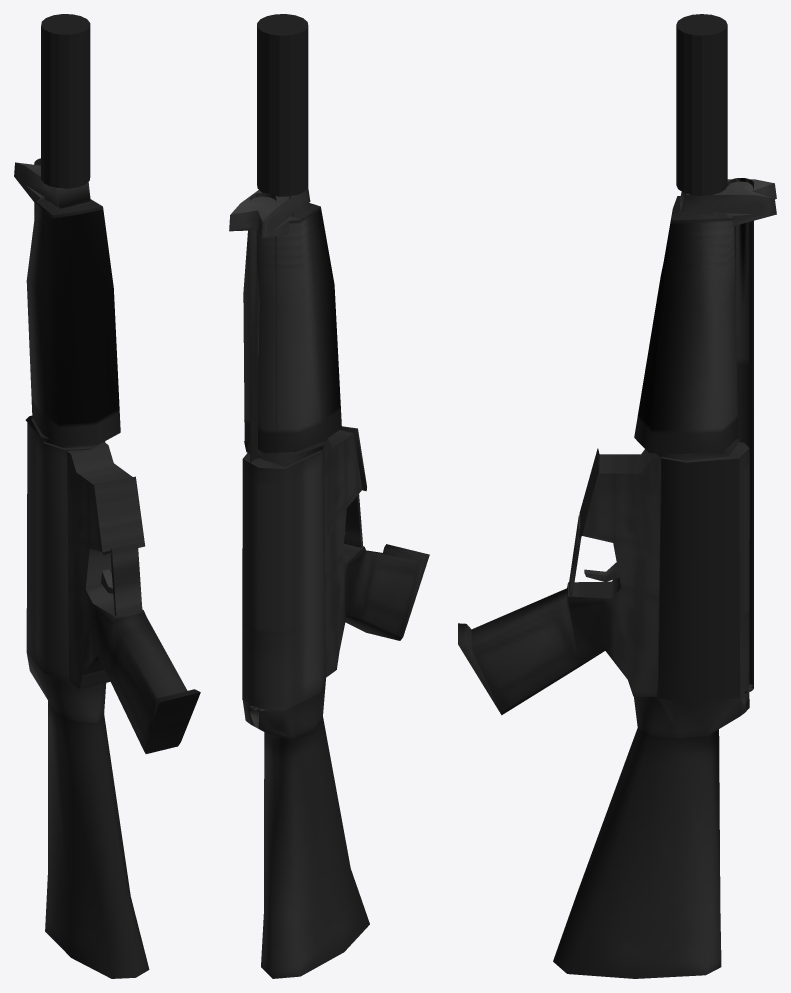
Rendered from MP5SD_NoMagazine.fbx.
The picture shows the model from 3 angles, left to right: view 1: azimuth 30°, elevation 25°; view 2: azimuth 150°, elevation 25°; view 3: azimuth 270°, elevation 25°; orthographic projection. The views are drawn at different scales.
Visible parts, largest first — view 1: node_9dd0f6f6_31ed_4a20_9721_c0e673ea2e27_mesh0; view 2: node_9dd0f6f6_31ed_4a20_9721_c0e673ea2e27_mesh0; view 3: node_9dd0f6f6_31ed_4a20_9721_c0e673ea2e27_mesh0.
Boxes of the visible parts, box(x1,y1,x2,y2) form: node_9dd0f6f6_31ed_4a20_9721_c0e673ea2e27_mesh0: box(14, 14, 200, 978); node_9dd0f6f6_31ed_4a20_9721_c0e673ea2e27_mesh0: box(229, 14, 429, 978); node_9dd0f6f6_31ed_4a20_9721_c0e673ea2e27_mesh0: box(458, 14, 776, 978).
Size of the model in its own units: 0.0308 by 0.4231 by 0.1298.
